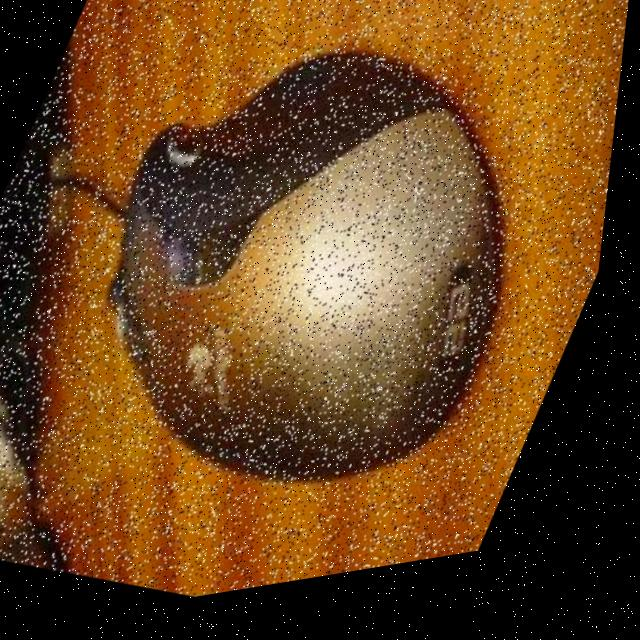mause: (0, 0, 633, 628)
